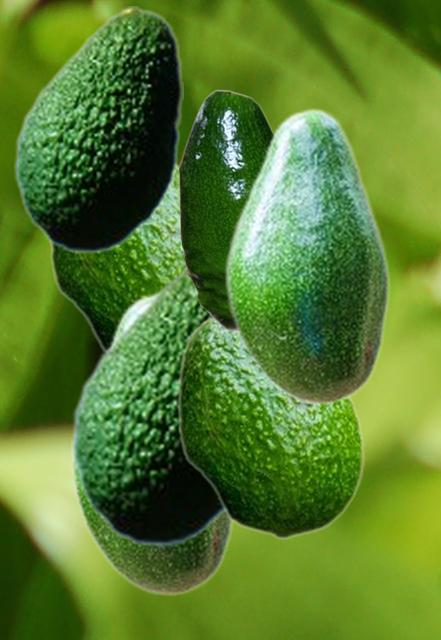avocado: (69, 291, 237, 596), (223, 107, 389, 405), (71, 262, 224, 546), (176, 314, 363, 538), (14, 6, 182, 253), (48, 161, 184, 351), (178, 89, 272, 330)
